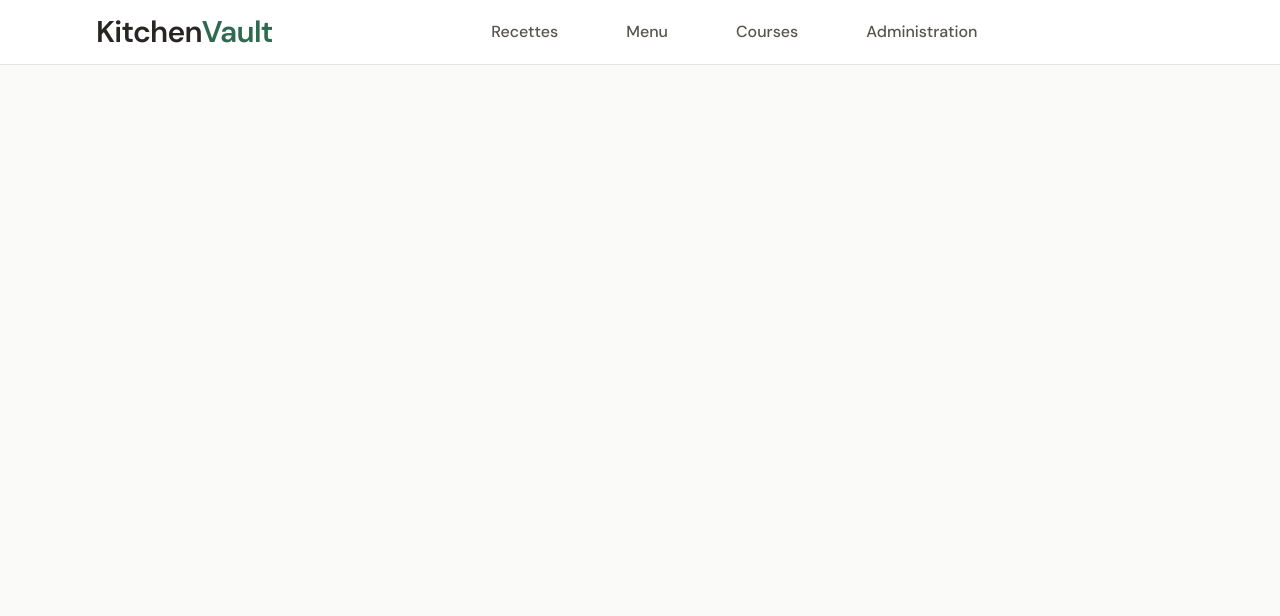
Scenario: Navigation principale › accède à la page Recettes depuis la nav
Click the link "Recettes".
click(525, 32)  # box [491,21,558,42]
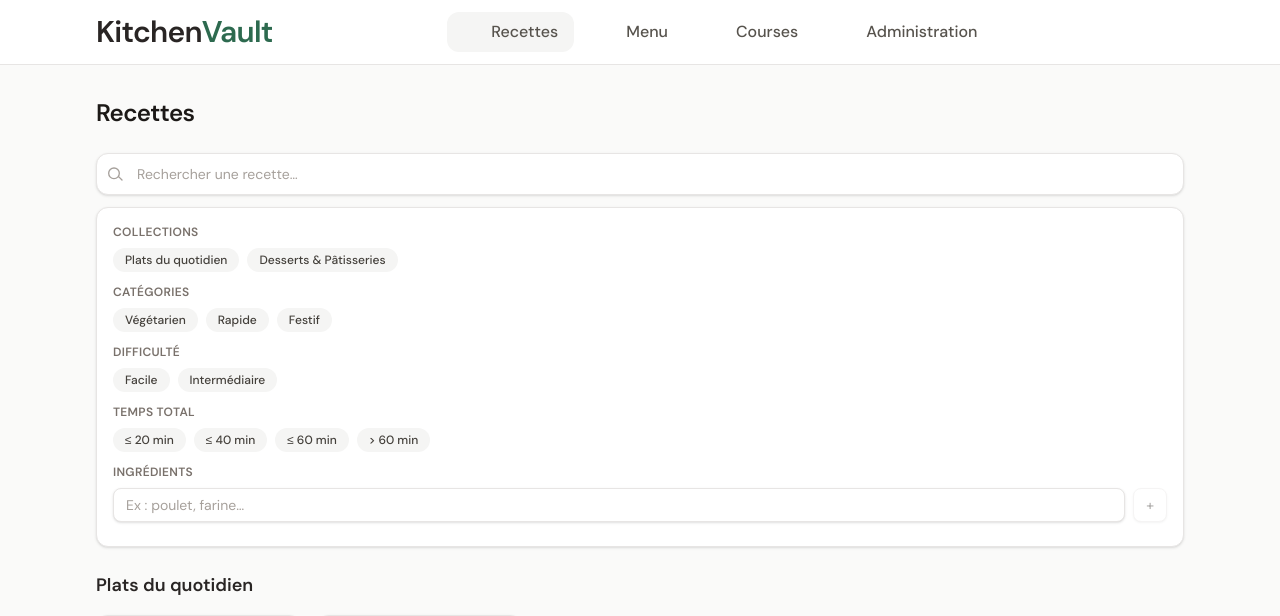
Expected: the heading "Recettes" is shown, [96,97,194,128]
